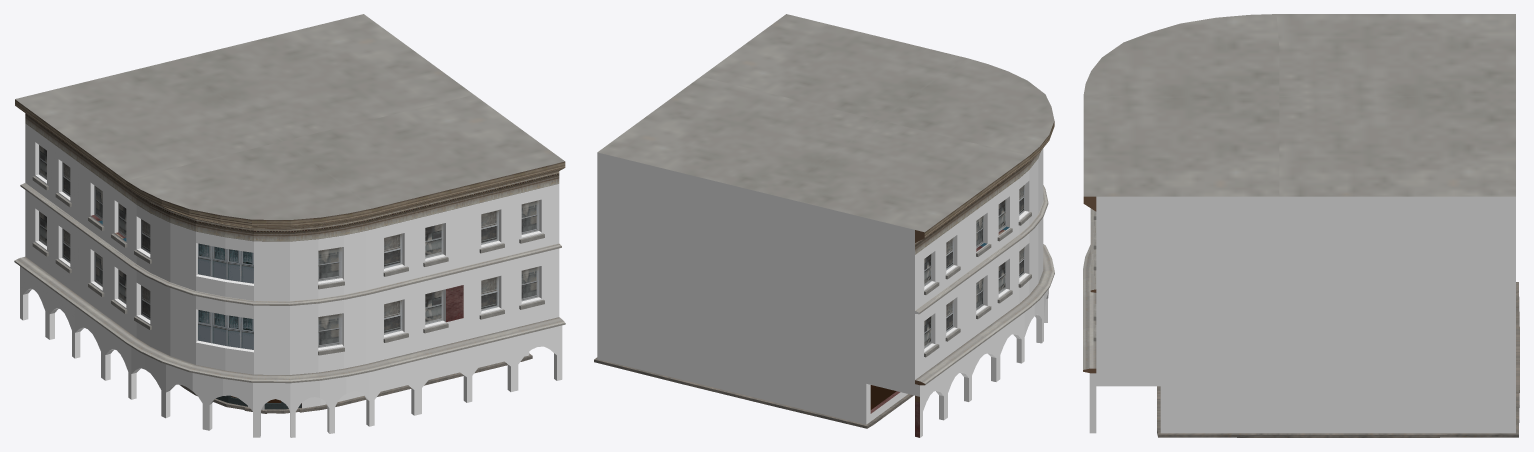
The model's file is Building_U.fbx.
3 renders of one model, left to right at view 1: azimuth 30°, elevation 25°; view 2: azimuth 150°, elevation 25°; view 3: azimuth 270°, elevation 25°, orthographic. The views are drawn at different scales.
Parts seen in each view (by area): view 1: City_Market_01:Building U; view 2: City_Market_01:Building U; view 3: City_Market_01:Building U.
Boxes of the visible parts, x1,y1,x2,y2 form: City_Market_01:Building U: (14, 14, 565, 437); City_Market_01:Building U: (594, 14, 1054, 437); City_Market_01:Building U: (1083, 14, 1519, 437).
Size of the model in its own units: 19.93 by 12.05 by 19.93.
